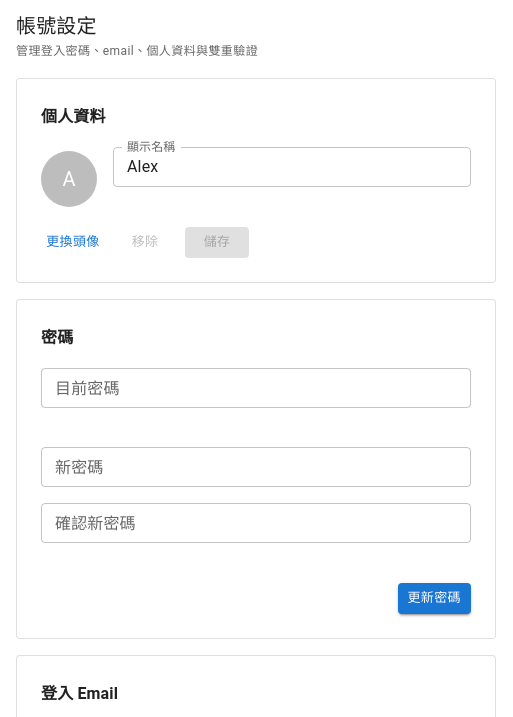
AccountSettingsView - 密碼 › 新密碼與確認密碼不一致時阻擋送出，顯示行內錯誤，不呼叫 updateAdminPassword
The image size is (513, 717).
Type "old-pass" into the password field labelled "目前密碼" at coordinates (256, 388), box [41,368,471,408]
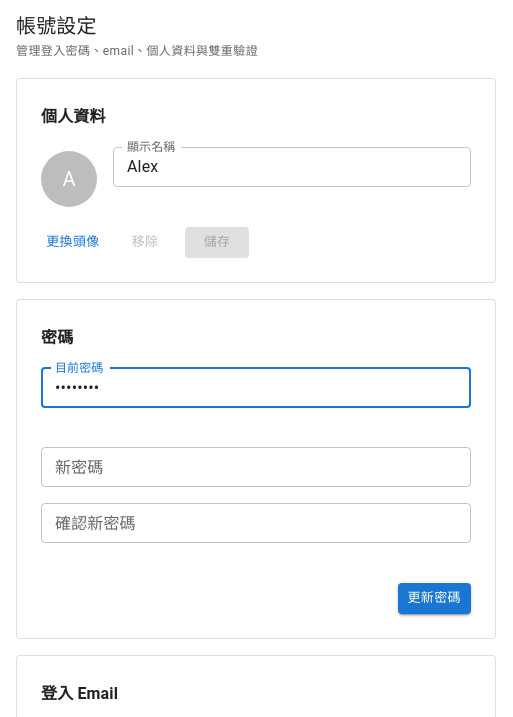
Type "Abc12345" into the password field labelled "新密碼" at coordinates (256, 468), box [41,448,471,488]
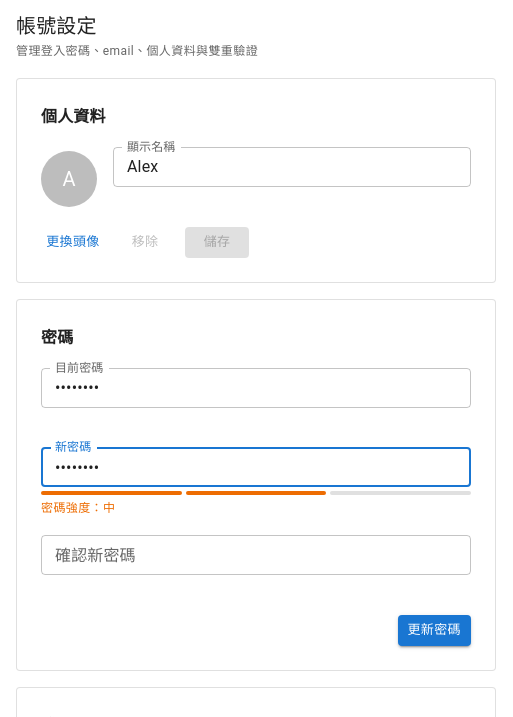
Type "Abc99999" into the password field labelled "確認新密碼" at coordinates (256, 555), box [41,535,471,575]
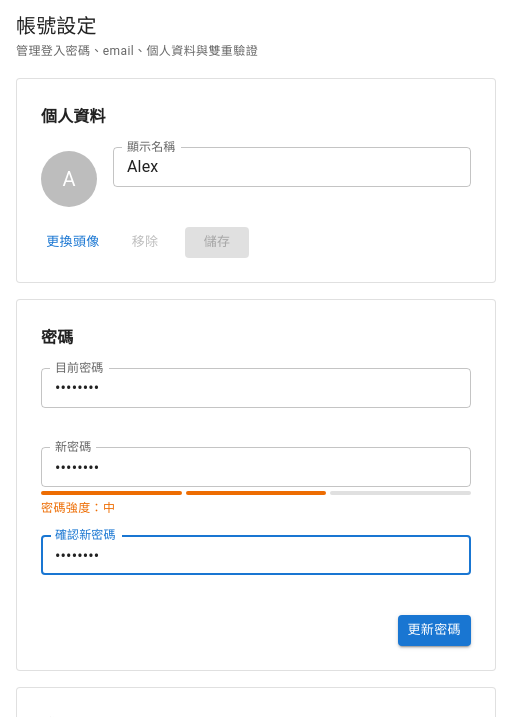
Click the button "更新密碼" at coordinates (434, 631), box [398,615,471,646]
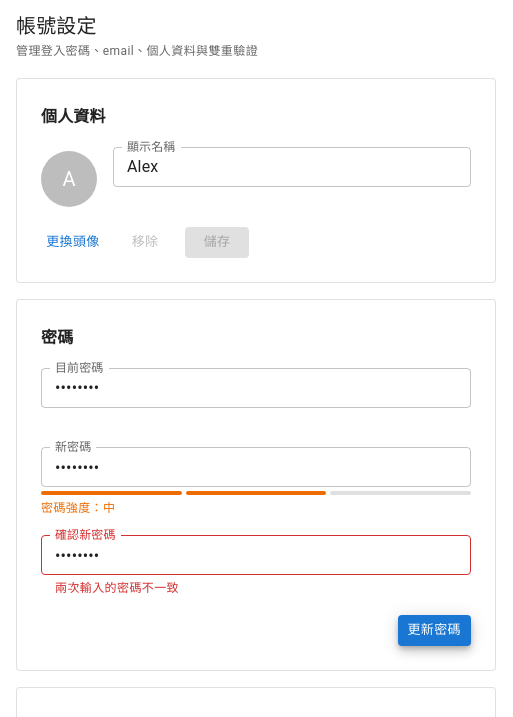
Now the text "兩次輸入的密碼不一致" is shown, box [55,581,179,595]
